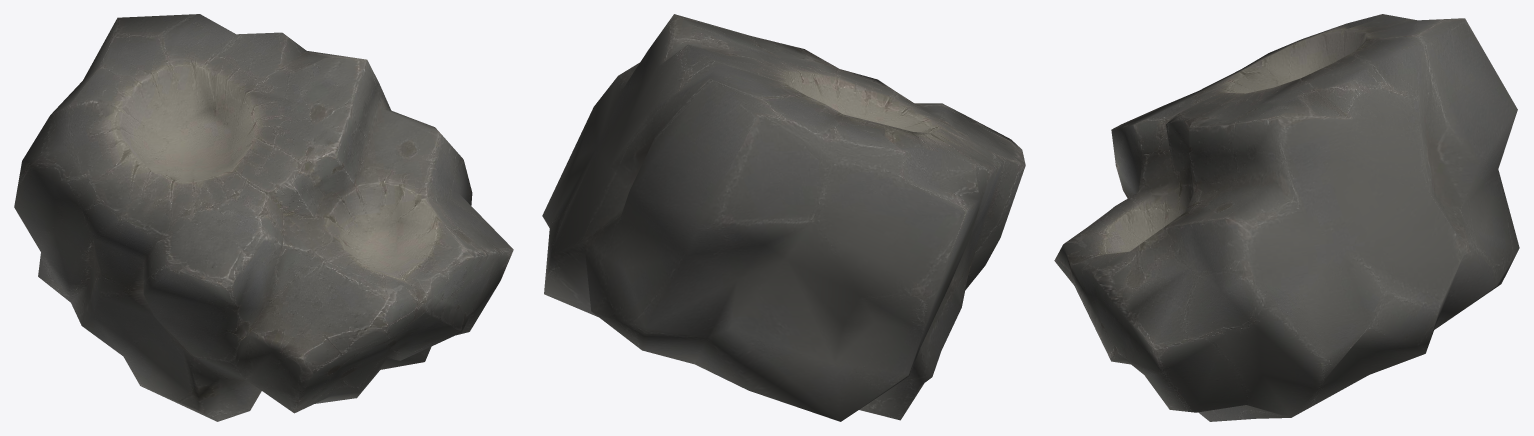
File: SM_Asteroid_01.fbx
3 views of the same model, side by side, from view 1: azimuth 30°, elevation 25°; view 2: azimuth 150°, elevation 25°; view 3: azimuth 270°, elevation 25° (orthographic). The views are drawn at different scales.
Visible parts, largest first — view 1: SM_Asteroid_01; view 2: SM_Asteroid_01; view 3: SM_Asteroid_01.
Part boxes in pixels (x1,y1,x2,y2): SM_Asteroid_01: [14, 14, 513, 421]; SM_Asteroid_01: [542, 14, 1025, 421]; SM_Asteroid_01: [1054, 14, 1519, 421].
Size of the model in its own units: 95.09 by 98.59 by 78.38.
Materials: 1 (1 with a texture image).
